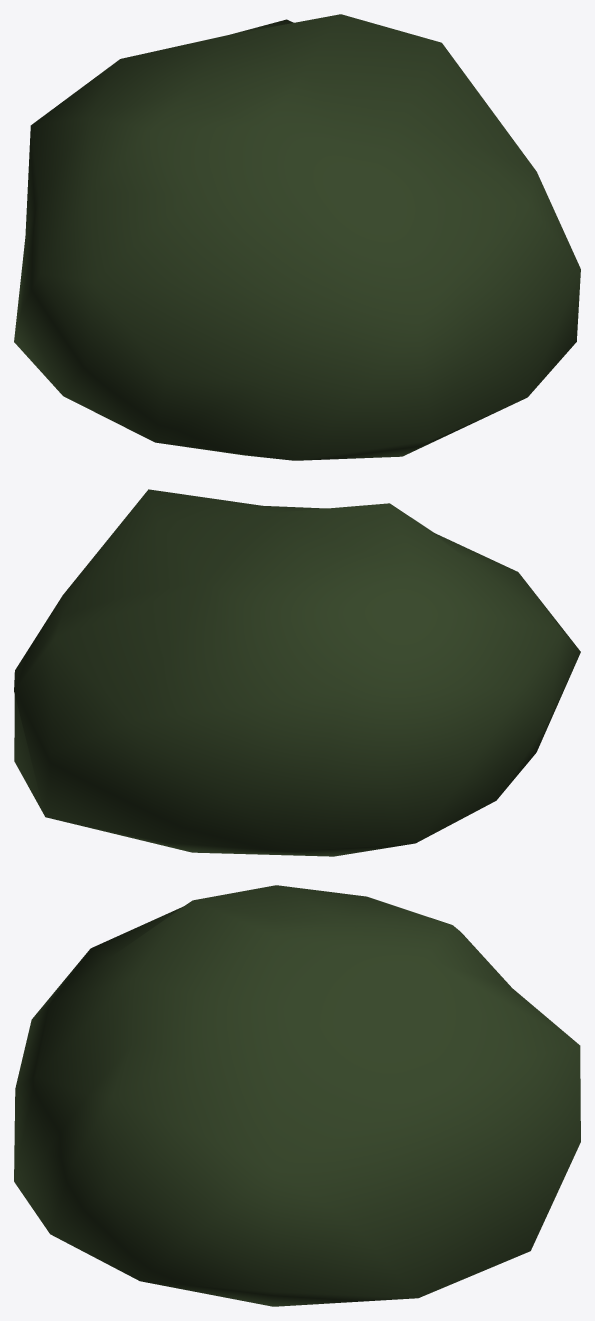
Rendered from RockMedium02.fbx.
The picture shows the model from 3 angles, top to bottom: view 1: azimuth 30°, elevation 25°; view 2: azimuth 150°, elevation 25°; view 3: azimuth 270°, elevation 25°; orthographic projection. The views are drawn at different scales.
Parts seen in each view (by area): view 1: RockMedium02; view 2: RockMedium02; view 3: RockMedium02.
Part boxes in pixels (x1=…): RockMedium02: x1=14, y1=14, x2=580, y2=460; RockMedium02: x1=14, y1=489, x2=580, y2=856; RockMedium02: x1=14, y1=885, x2=580, y2=1306.
Size of the model in its own units: 11.72 by 7.37 by 12.26.
